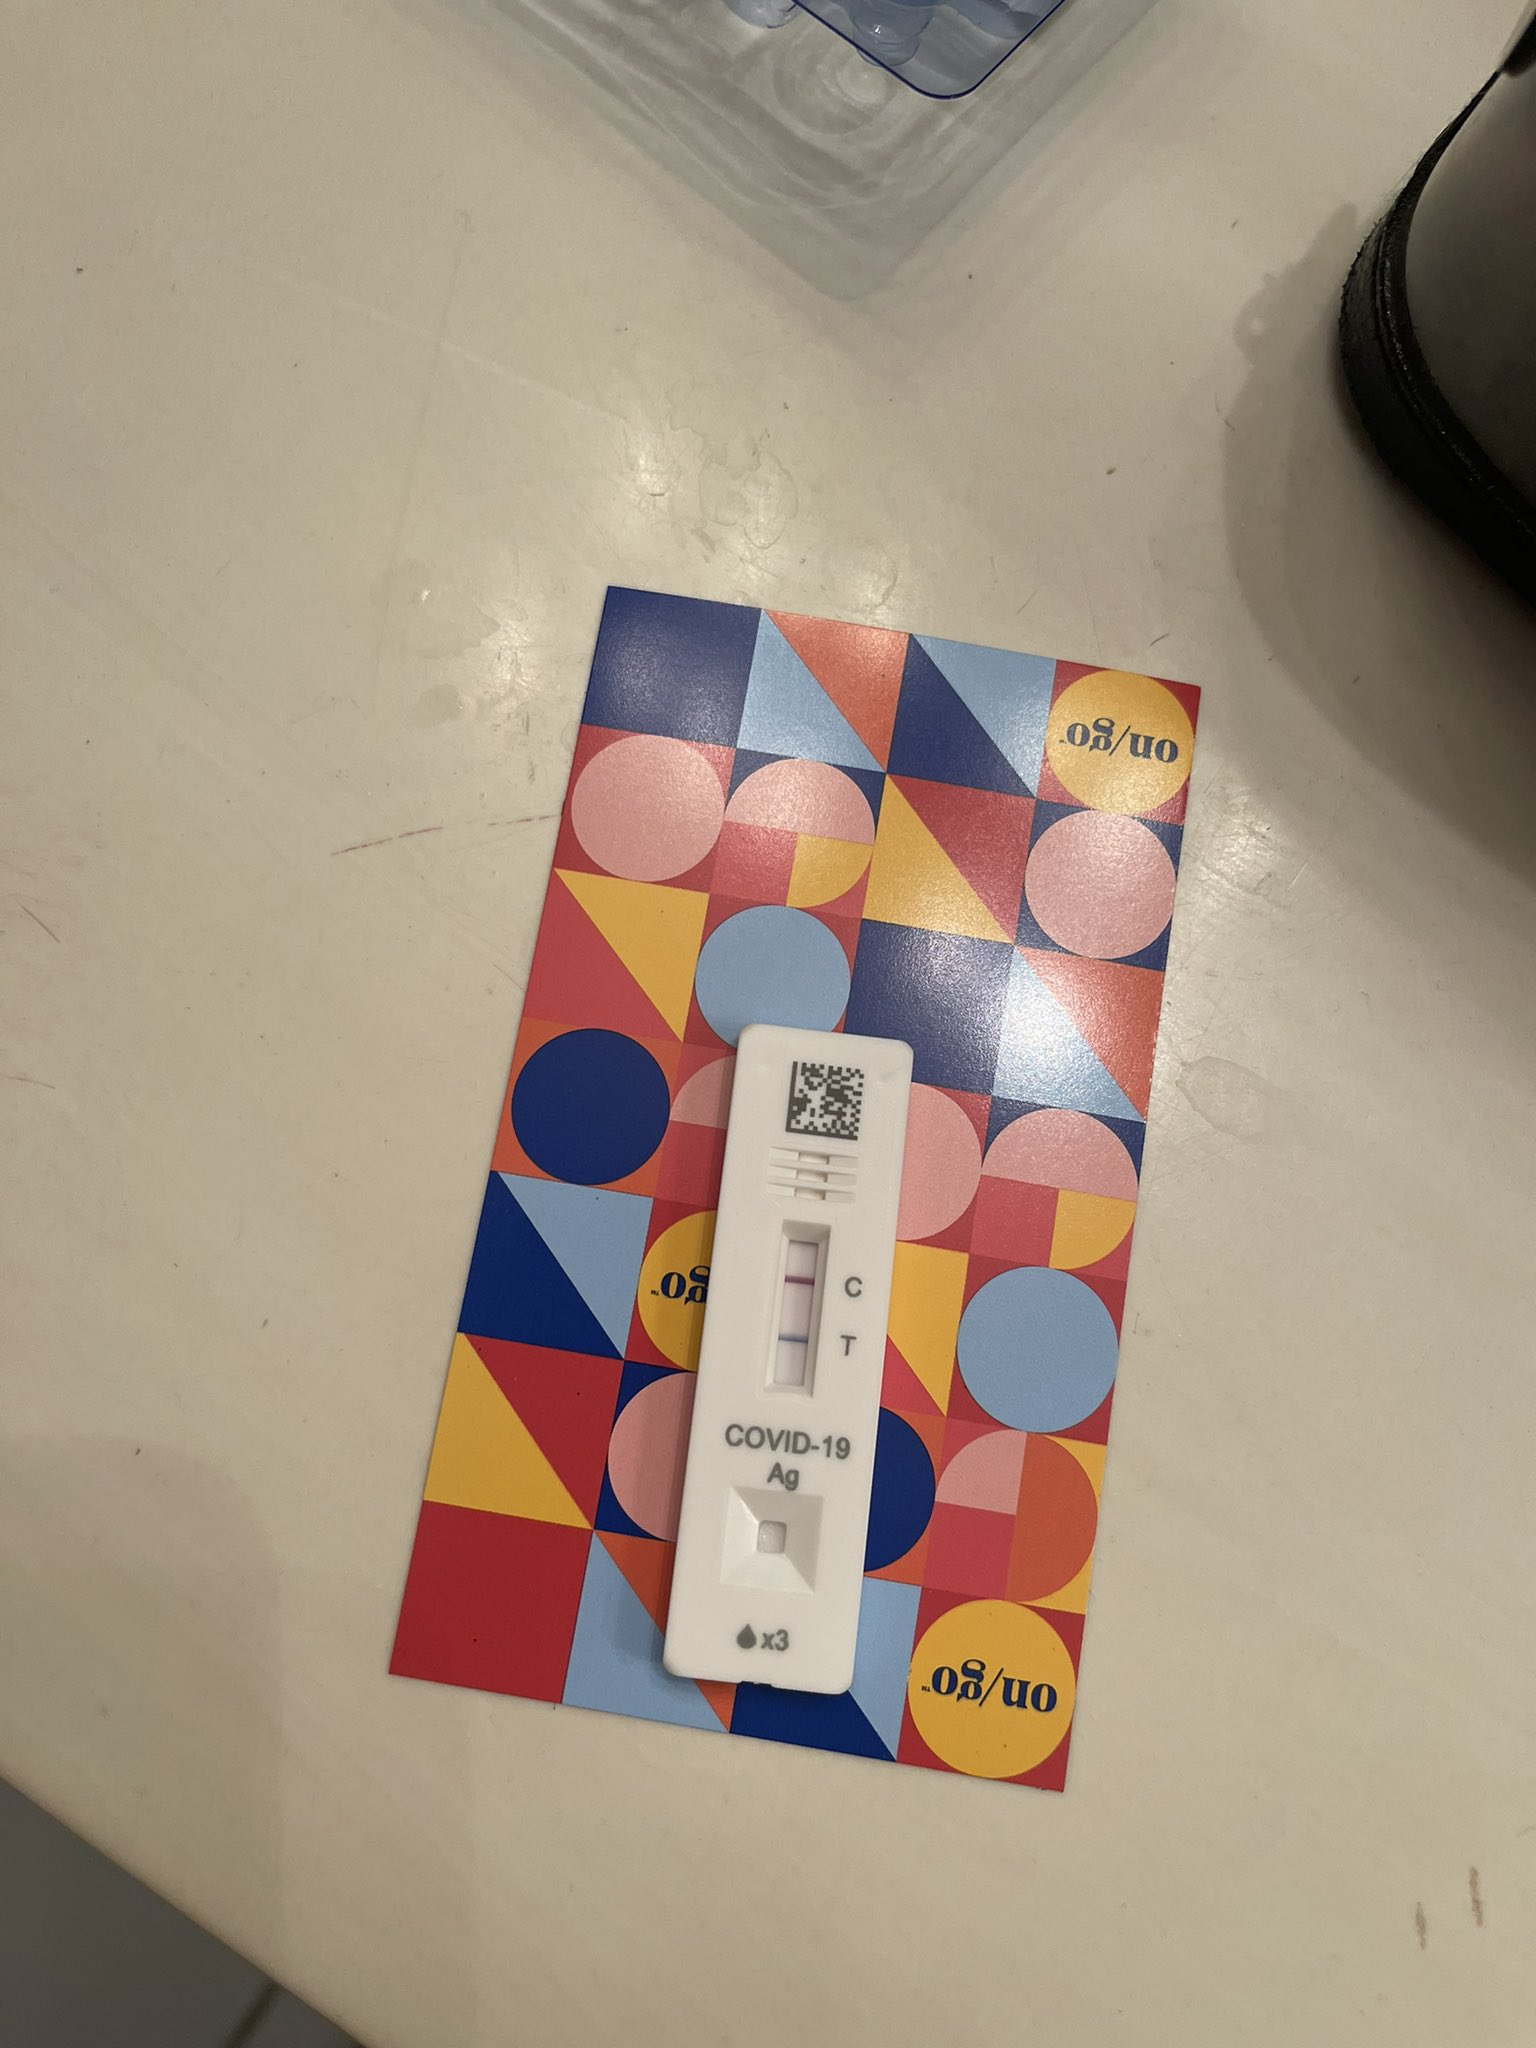positive: (774, 1222, 820, 1398)
